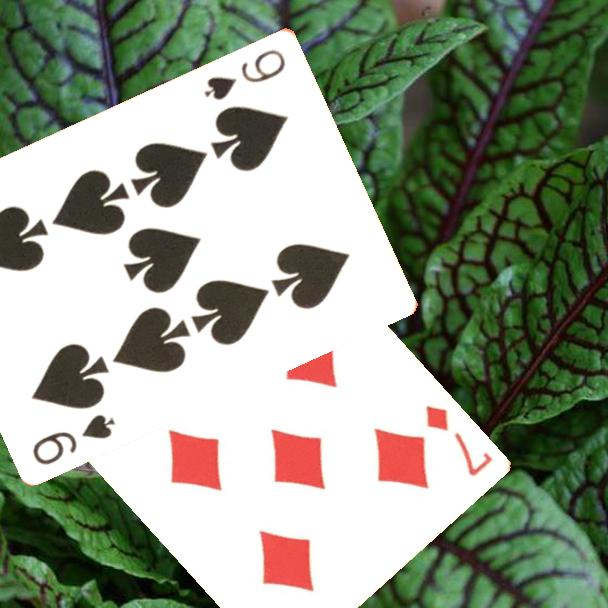d07: (422, 402, 497, 479)
s09: (29, 410, 119, 468), (201, 45, 289, 103)
